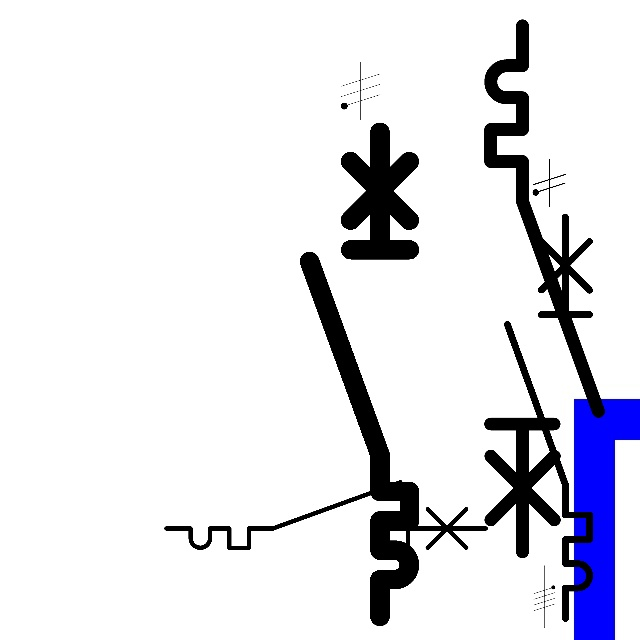interruptor_termomagnetico: (477, 12, 612, 565), (297, 119, 422, 629), (497, 206, 600, 628), (158, 474, 494, 556)
